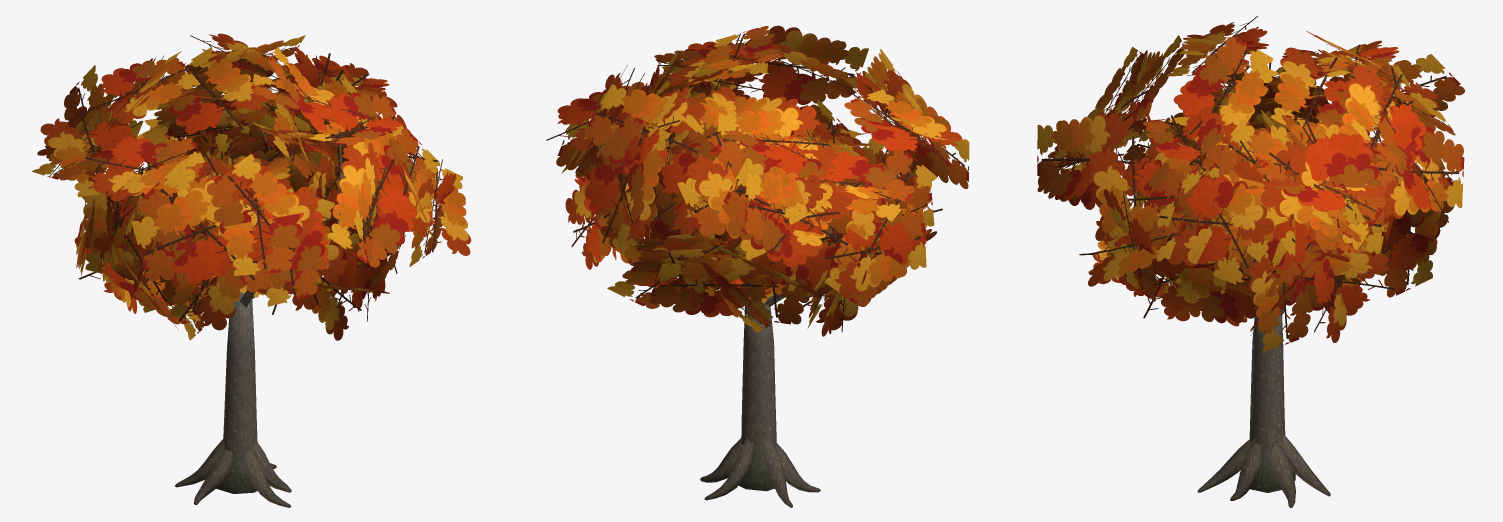
Rendered from tree_maple_lod.glb.
3 renders of one model, left to right at view 1: azimuth 30°, elevation 25°; view 2: azimuth 150°, elevation 25°; view 3: azimuth 270°, elevation 25°, orthographic. The views are drawn at different scales.
Visible parts, largest first — view 1: Leaves, Trunk, Roots; view 2: Leaves, Trunk, Roots; view 3: Leaves, Trunk, Roots.
Boxes of the visible parts, <box> form: Leaves: <box>32,33,471,340</box>; Trunk: <box>216,292,257,493</box>; Roots: <box>175,438,291,507</box>; Leaves: <box>546,25,969,336</box>; Trunk: <box>739,300,776,491</box>; Roots: <box>700,437,820,507</box>; Leaves: <box>1037,16,1464,352</box>; Trunk: <box>1239,306,1295,492</box>; Roots: <box>1197,435,1330,507</box>.
Bounding box in the file's own units: 6.56 × 6.98 × 6.56.
Materials: 2 (2 with a texture image).
